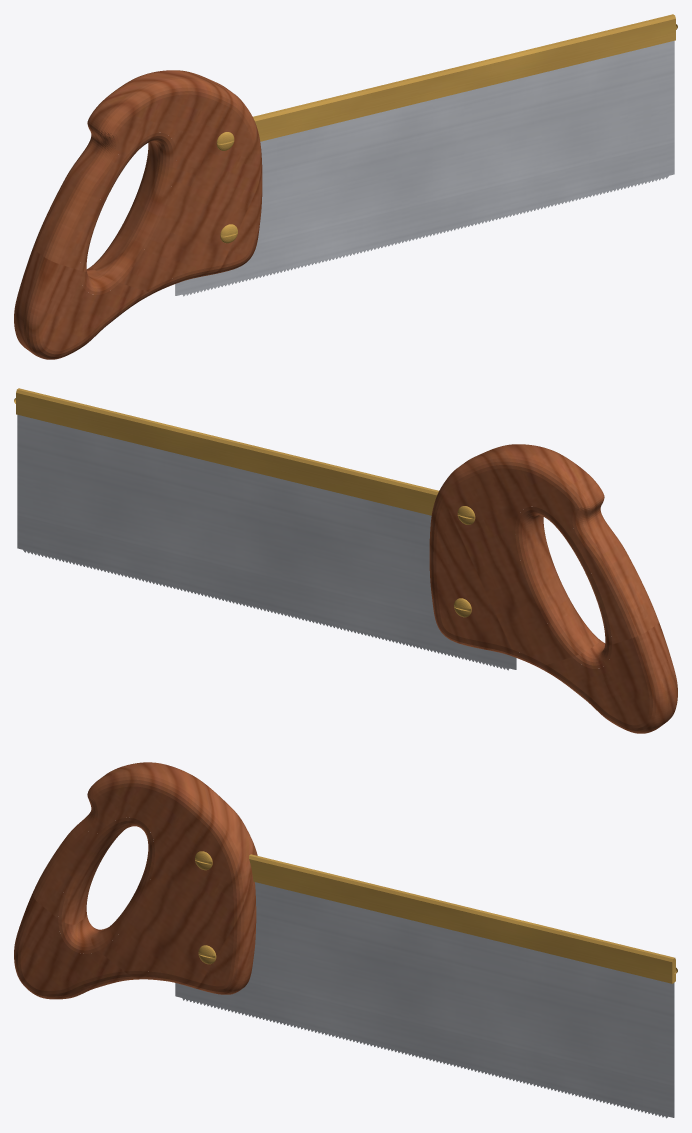
Rendered from serrucho_costilla.glb.
The picture shows the model from 3 angles, top to bottom: view 1: azimuth 30°, elevation 25°; view 2: azimuth 150°, elevation 25°; view 3: azimuth 330°, elevation 25°; orthographic projection.
Visible parts, largest first — view 1: hoja, mango, costilla; view 2: hoja, mango, costilla; view 3: hoja, mango, costilla.
Boxes of the visible parts, x1,y1,x2,y2 form: hoja: [175, 41, 674, 296]; mango: [14, 70, 262, 359]; costilla: [253, 14, 675, 141]; hoja: [17, 415, 516, 670]; mango: [429, 444, 677, 733]; costilla: [16, 388, 438, 515]; hoja: [175, 882, 674, 1118]; mango: [14, 762, 257, 999]; costilla: [249, 854, 675, 983].
Size of the model in its own units: 0.3694 by 0.1353 by 0.024.
3 materials, 3 textured.
